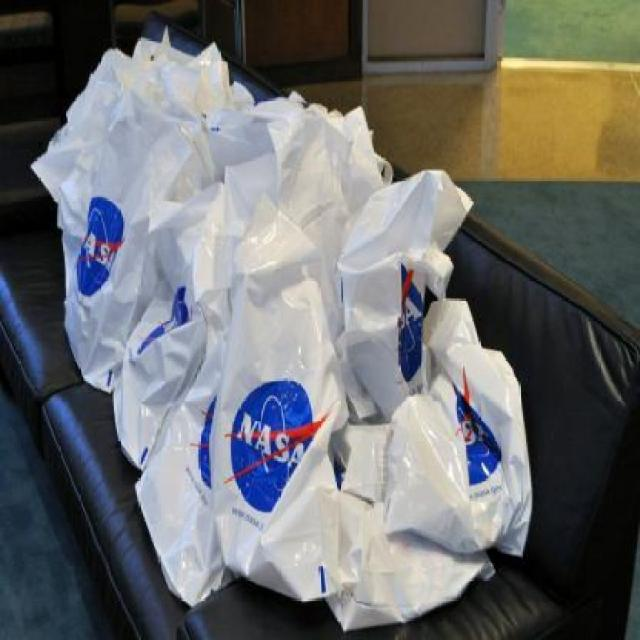plastic bag: (28, 25, 535, 628), (186, 189, 351, 614)
